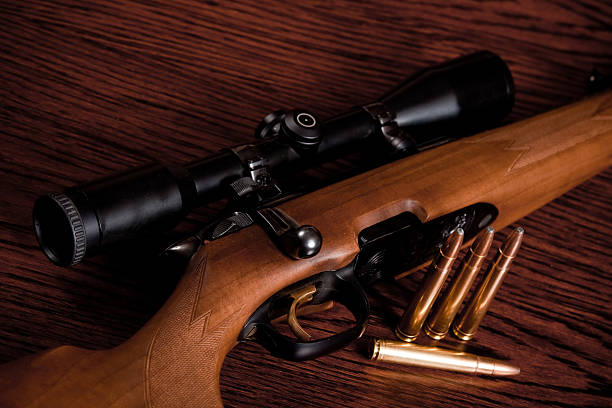rifle: (2, 37, 612, 406)
